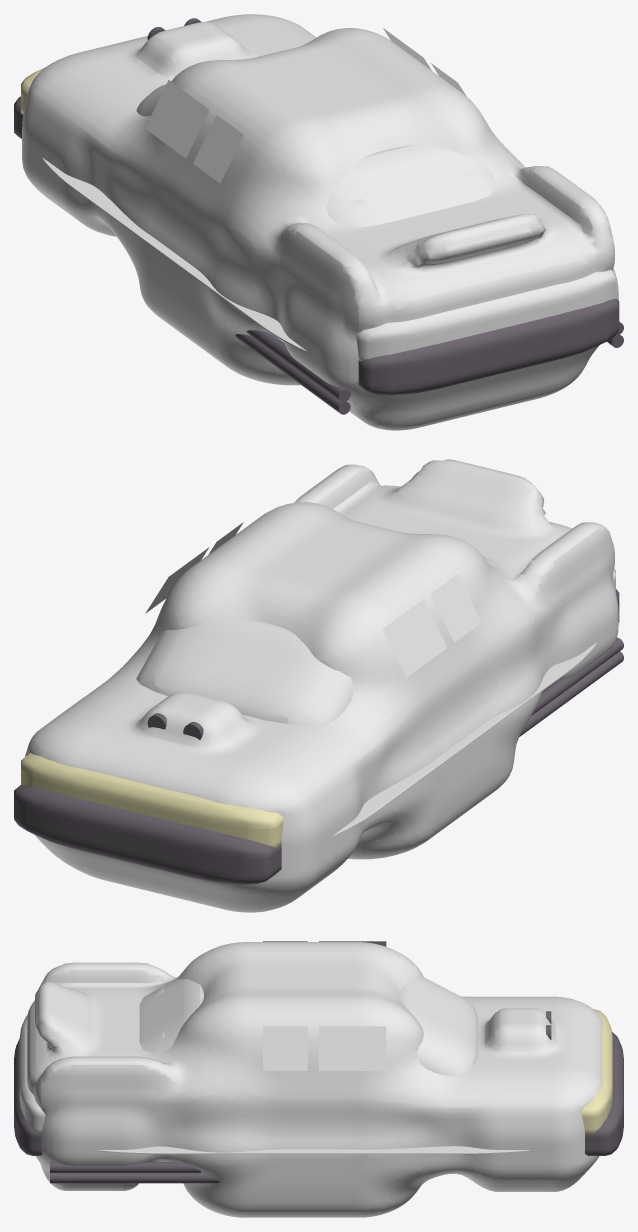
File: metaball-car.fbx
The picture shows the model from 3 angles, top to bottom: view 1: azimuth 30°, elevation 25°; view 2: azimuth 150°, elevation 25°; view 3: azimuth 270°, elevation 25°; orthographic projection. The views are drawn at different scales.
Visible parts, largest first — view 1: car, bumper, glass, red-lights, pinstripe, glass-side-window.002, glass-side-window.003, exhaust.002, exhaust.003; view 2: car, glass, bumper, white-lights, pinstripe, glass-side-window.002, glass-side-window.003, exhaust.002, exhaust.003, glass-side-window.001; view 3: car, glass, bumper, glass-side-window.001, pinstripe, glass-side-window, exhaust.001, white-lights, exhaust, red-lights.
Boxes of the visible parts, x1=… form: car: x1=22, y1=14, x2=618, y2=430; bumper: x1=14, y1=96, x2=619, y2=395; glass: x1=136, y1=84, x2=496, y2=227; red-lights: x1=356, y1=270, x2=615, y2=361; pinstripe: x1=42, y1=157, x2=307, y2=352; glass-side-window.002: x1=145, y1=80, x2=209, y2=158; glass-side-window.003: x1=193, y1=115, x2=243, y2=183; exhaust.002: x1=235, y1=334, x2=350, y2=414; exhaust.003: x1=246, y1=330, x2=350, y2=402; car: x1=25, y1=459, x2=618, y2=912; glass: x1=136, y1=557, x2=496, y2=725; bumper: x1=14, y1=589, x2=619, y2=884; white-lights: x1=21, y1=753, x2=283, y2=847; pinstripe: x1=333, y1=642, x2=597, y2=836; glass-side-window.002: x1=382, y1=599, x2=447, y2=677; glass-side-window.003: x1=430, y1=574, x2=481, y2=642; exhaust.002: x1=519, y1=651, x2=623, y2=736; exhaust.003: x1=531, y1=637, x2=623, y2=715; glass-side-window.001: x1=145, y1=547, x2=209, y2=613; car: x1=27, y1=942, x2=602, y2=1217; glass: x1=139, y1=977, x2=478, y2=1076; bumper: x1=14, y1=1032, x2=623, y2=1155; glass-side-window.001: x1=319, y1=1026, x2=386, y2=1070; pinstripe: x1=97, y1=1146, x2=529, y2=1154; glass-side-window: x1=263, y1=1026, x2=307, y2=1070; exhaust.001: x1=50, y1=1173, x2=219, y2=1183; white-lights: x1=581, y1=1009, x2=612, y2=1133; exhaust: x1=50, y1=1162, x2=201, y2=1172; red-lights: x1=19, y1=1015, x2=45, y2=1133.
Size of the model in its own units: 515 by 411 by 1089.
